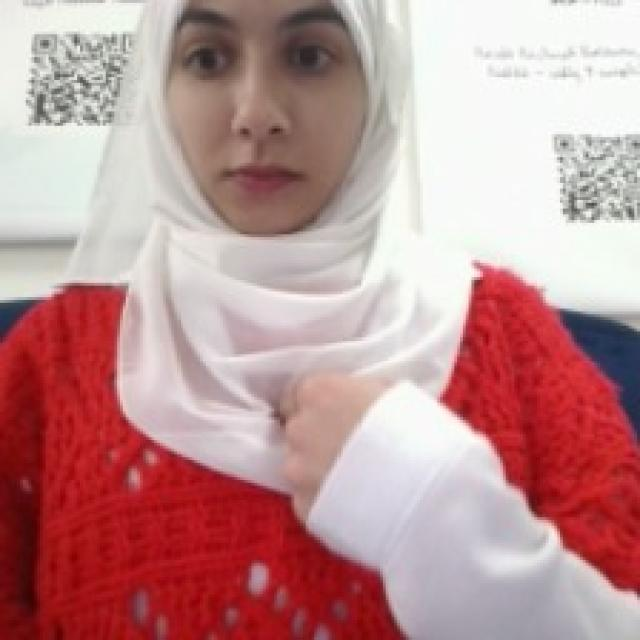me: (265, 367, 406, 531)
